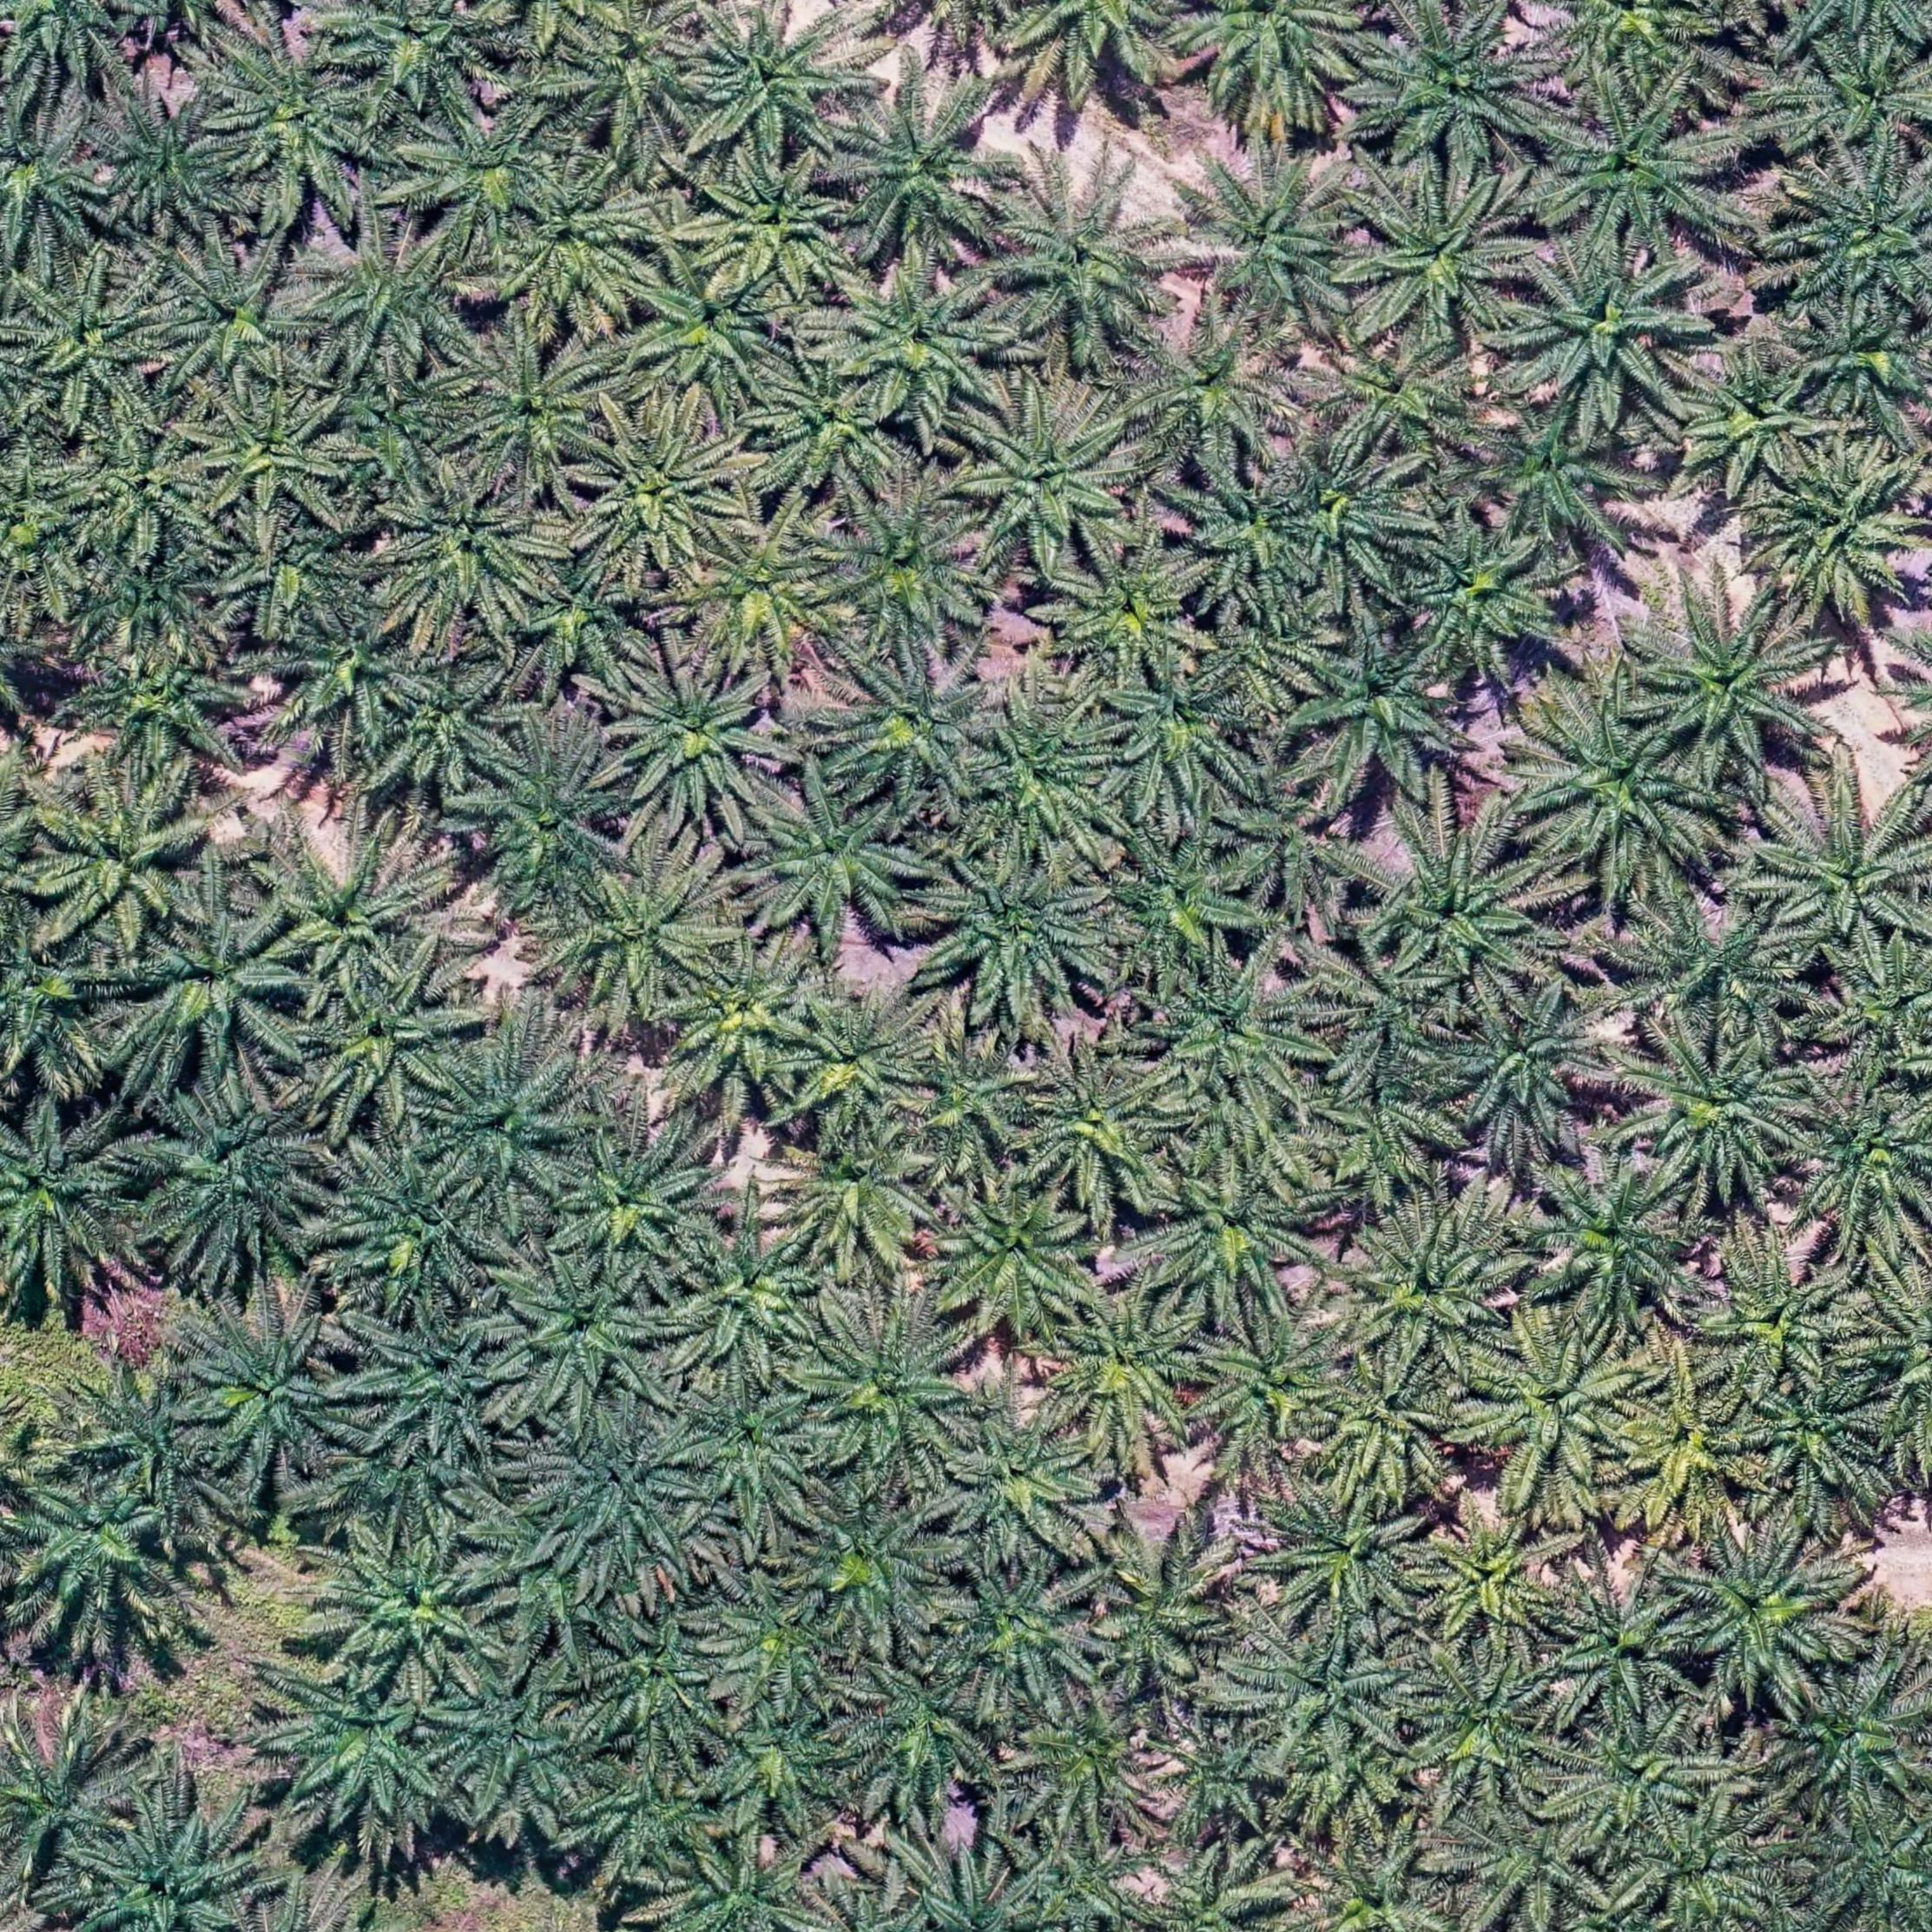palmtree: (1509, 681, 1721, 885), (136, 1081, 338, 1276), (1175, 138, 1375, 333), (1633, 582, 1831, 777), (987, 157, 1184, 352), (1359, 810, 1559, 1001), (1507, 242, 1707, 426), (1353, 5, 1559, 180), (1534, 87, 1739, 260), (957, 382, 1148, 568), (924, 851, 1123, 1026), (1290, 621, 1476, 809), (1334, 1200, 1525, 1382), (1624, 1019, 1819, 1196), (122, 899, 313, 1077), (1746, 439, 1928, 625), (1341, 170, 1532, 347), (1467, 1316, 1656, 1491), (271, 1665, 460, 1838), (1145, 1154, 1336, 1325), (812, 481, 998, 656), (837, 83, 1021, 258), (1672, 1523, 1851, 1702), (465, 731, 637, 915), (603, 655, 782, 828), (1079, 1523, 1253, 1702), (34, 777, 214, 948), (833, 257, 1017, 425), (1037, 1286, 1214, 1460), (1437, 984, 1621, 1150), (1139, 957, 1327, 1120), (748, 778, 931, 945), (1474, 396, 1656, 563), (1615, 890, 1810, 1046), (375, 464, 556, 630), (1527, 1157, 1702, 1327), (306, 957, 483, 1125), (1753, 782, 1932, 948), (189, 1302, 363, 1472), (216, 30, 384, 205), (1122, 311, 1302, 474), (683, 4, 865, 165), (575, 409, 750, 575), (16, 1472, 186, 1642), (807, 1304, 978, 1470), (837, 644, 1010, 809), (64, 639, 249, 791), (1396, 511, 1568, 676), (272, 833, 446, 996), (678, 513, 851, 674), (0, 1100, 143, 1295), (556, 863, 734, 1019), (333, 1139, 502, 1302), (966, 690, 1129, 860), (934, 1180, 1106, 1341), (1265, 1477, 1442, 1633), (308, 225, 488, 377), (453, 327, 619, 492), (1697, 1233, 1867, 1392), (494, 159, 660, 320), (1272, 432, 1431, 600), (536, 1422, 706, 1580), (152, 241, 326, 395), (326, 1536, 502, 1684), (1017, 1046, 1182, 1203), (692, 147, 858, 303), (630, 253, 794, 409), (943, 1407, 1108, 1562), (794, 1493, 961, 1647), (1407, 1644, 1568, 1801), (14, 262, 175, 419), (1173, 0, 1380, 122), (1231, 1621, 1412, 1760), (669, 939, 826, 1097), (1313, 331, 1488, 472), (1776, 154, 1932, 313), (755, 354, 918, 506), (1194, 1309, 1359, 1460), (1102, 660, 1263, 812), (1046, 538, 1210, 686), (557, 1125, 724, 1272), (501, 1260, 665, 1407), (430, 1040, 586, 1194), (1180, 456, 1332, 614), (1674, 347, 1833, 497), (81, 1808, 274, 1932), (1014, 1693, 1171, 1844), (1543, 1569, 1700, 1720), (952, 1555, 1108, 1706), (433, 1656, 591, 1805), (1614, 1376, 1771, 1525), (1417, 1506, 1576, 1652), (361, 1315, 522, 1460), (1102, 830, 1260, 977), (989, 0, 1203, 108), (780, 1123, 943, 1265), (786, 987, 941, 1134), (1307, 1350, 1465, 1495), (1523, 0, 1734, 106), (1780, 1663, 1932, 1810), (97, 92, 253, 235), (1789, 1092, 1932, 1247), (1223, 759, 1364, 916), (414, 104, 573, 244), (62, 428, 223, 566), (855, 1658, 1005, 1805), (372, 656, 524, 801), (1306, 1065, 1461, 1207), (276, 598, 425, 745), (1741, 1362, 1893, 1504), (202, 386, 356, 524), (214, 510, 375, 640), (1316, 931, 1461, 1076), (510, 550, 656, 694), (570, 0, 718, 142), (679, 1378, 830, 1518), (0, 929, 122, 1099), (593, 1603, 732, 1746), (1787, 39, 1932, 177), (1560, 1713, 1707, 1849), (0, 1723, 131, 1870), (906, 1035, 1046, 1171), (71, 536, 223, 656), (1453, 1803, 1601, 1925), (320, 0, 487, 108), (683, 1230, 819, 1361), (80, 1371, 219, 1499), (1200, 591, 1345, 713), (711, 1700, 851, 1826), (709, 1582, 849, 1707), (336, 375, 476, 501), (1633, 1801, 1776, 1921), (0, 110, 113, 262), (1290, 1833, 1463, 1932), (577, 1764, 718, 1882), (1790, 297, 1927, 419), (1152, 1720, 1288, 1842), (665, 1840, 835, 1932), (1131, 1844, 1297, 1932), (1017, 1831, 1161, 1932), (1822, 938, 1932, 1063), (1819, 1805, 1932, 1918), (1295, 1729, 1419, 1829), (895, 1852, 1044, 1932), (0, 0, 138, 80), (345, 1449, 474, 1534), (495, 1569, 609, 1651)
